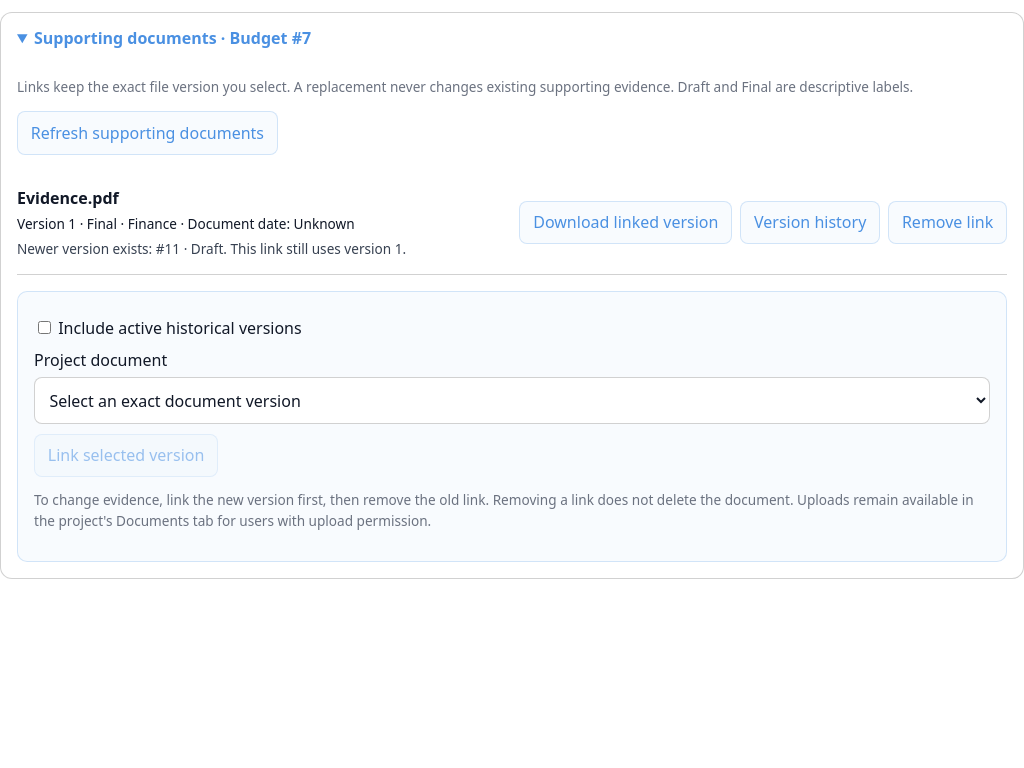
Test: 409 refreshes links and eligibility without silently retrying
The width and height of the screenshot is (1024, 768).
Check: the text "Evidence.pdf" is shown, box left=17, top=186, right=119, bottom=208
Select "Revised.pdf · Version 2 · Draft · Current (#11)" in the dropdown labelled "Project document" at [512, 401], box left=34, top=377, right=990, bottom=424
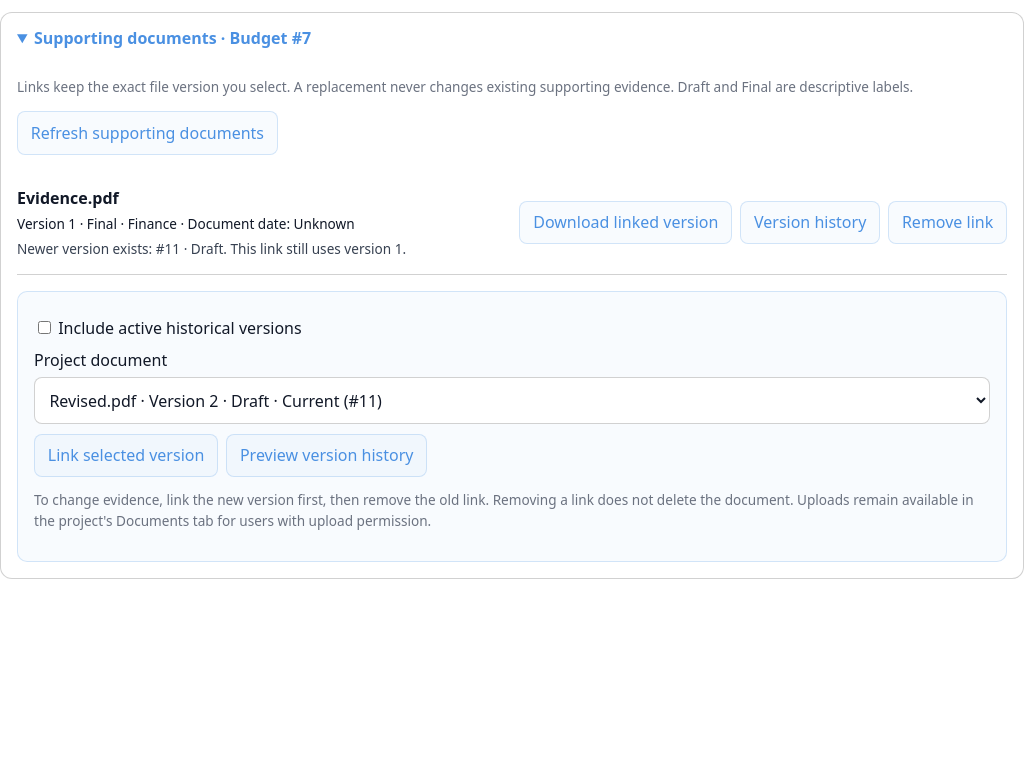
Click the button "Link selected version".
click(126, 455)  # box left=34, top=434, right=218, bottom=477
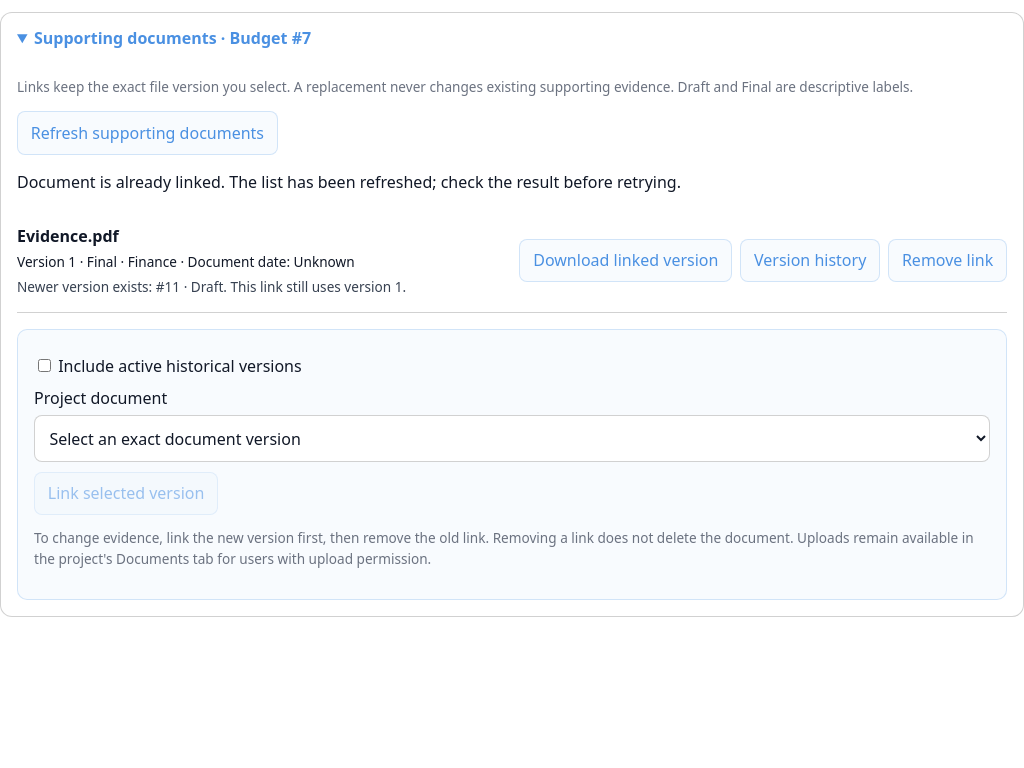
Check: the message shows "Document is already linked.", box left=17, top=170, right=681, bottom=192
